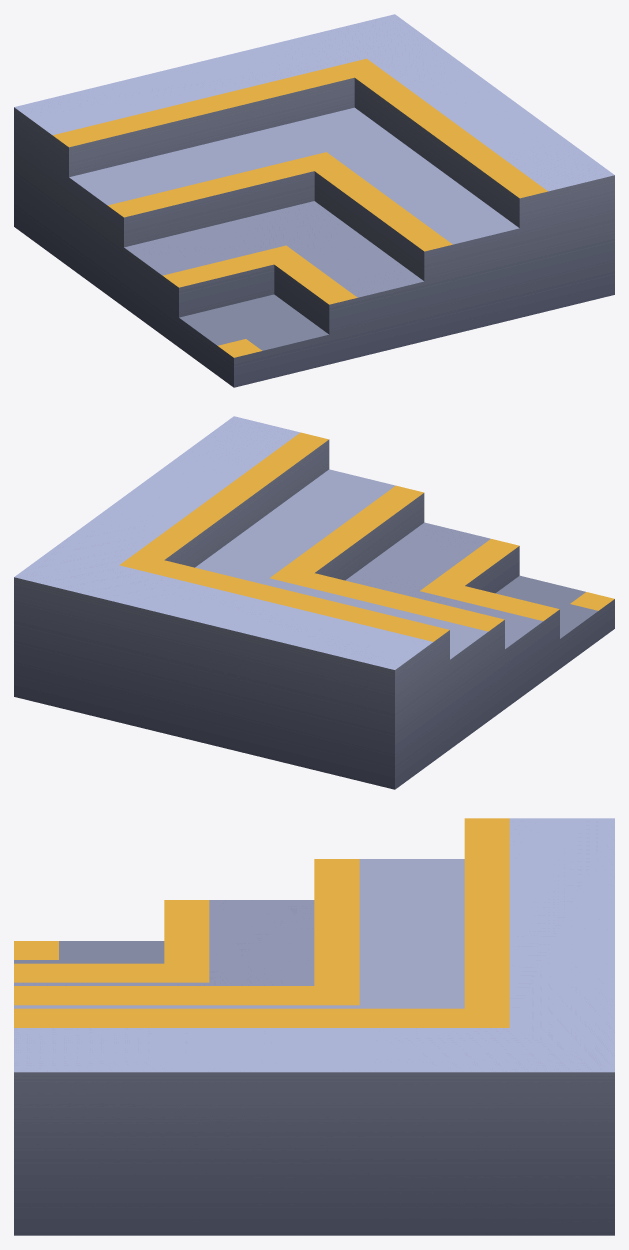
The model's file is stairs-corner-inner.glb.
The picture shows the model from 3 angles, top to bottom: view 1: azimuth 30°, elevation 25°; view 2: azimuth 150°, elevation 25°; view 3: azimuth 270°, elevation 25°; orthographic projection. The views are drawn at different scales.
Visible parts, largest first — view 1: stairs-corner-inner; view 2: stairs-corner-inner; view 3: stairs-corner-inner.
Part boxes in pixels (x1,y1,x2,y2): stairs-corner-inner: [14, 14, 614, 387]; stairs-corner-inner: [14, 416, 614, 789]; stairs-corner-inner: [14, 818, 614, 1235].
Size of the model in its own units: 1 by 0.3 by 1.
Materials: 1 (1 with a texture image).
